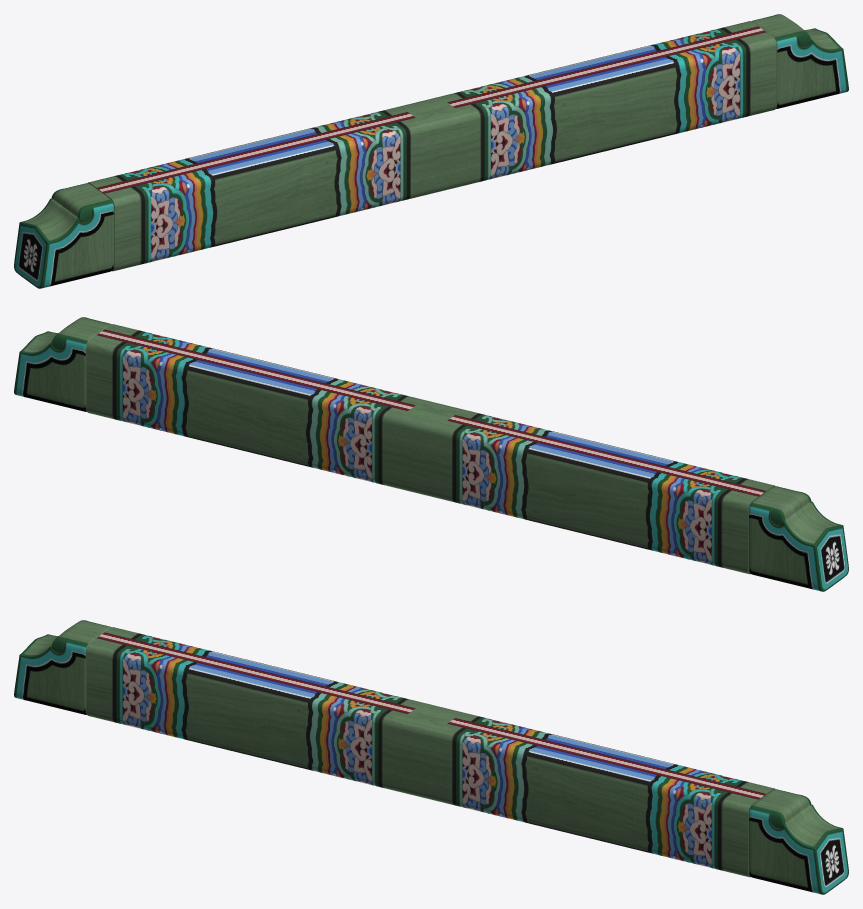
The model's file is SM_SJM_BeamA_01.fbx.
3 views of the same model, one above another, from view 1: azimuth 30°, elevation 25°; view 2: azimuth 150°, elevation 25°; view 3: azimuth 330°, elevation 25° (orthographic).
Parts seen in each view (by area): view 1: SM_SJM_BeamA_01; view 2: SM_SJM_BeamA_01; view 3: SM_SJM_BeamA_01.
Part boxes in pixels (x1=…): SM_SJM_BeamA_01: x1=14, y1=14, x2=848, y2=288; SM_SJM_BeamA_01: x1=14, y1=317, x2=848, y2=591; SM_SJM_BeamA_01: x1=14, y1=620, x2=848, y2=894.
Size of the model in its own units: 573 by 35.01 by 49.
1 material, 1 textured.
